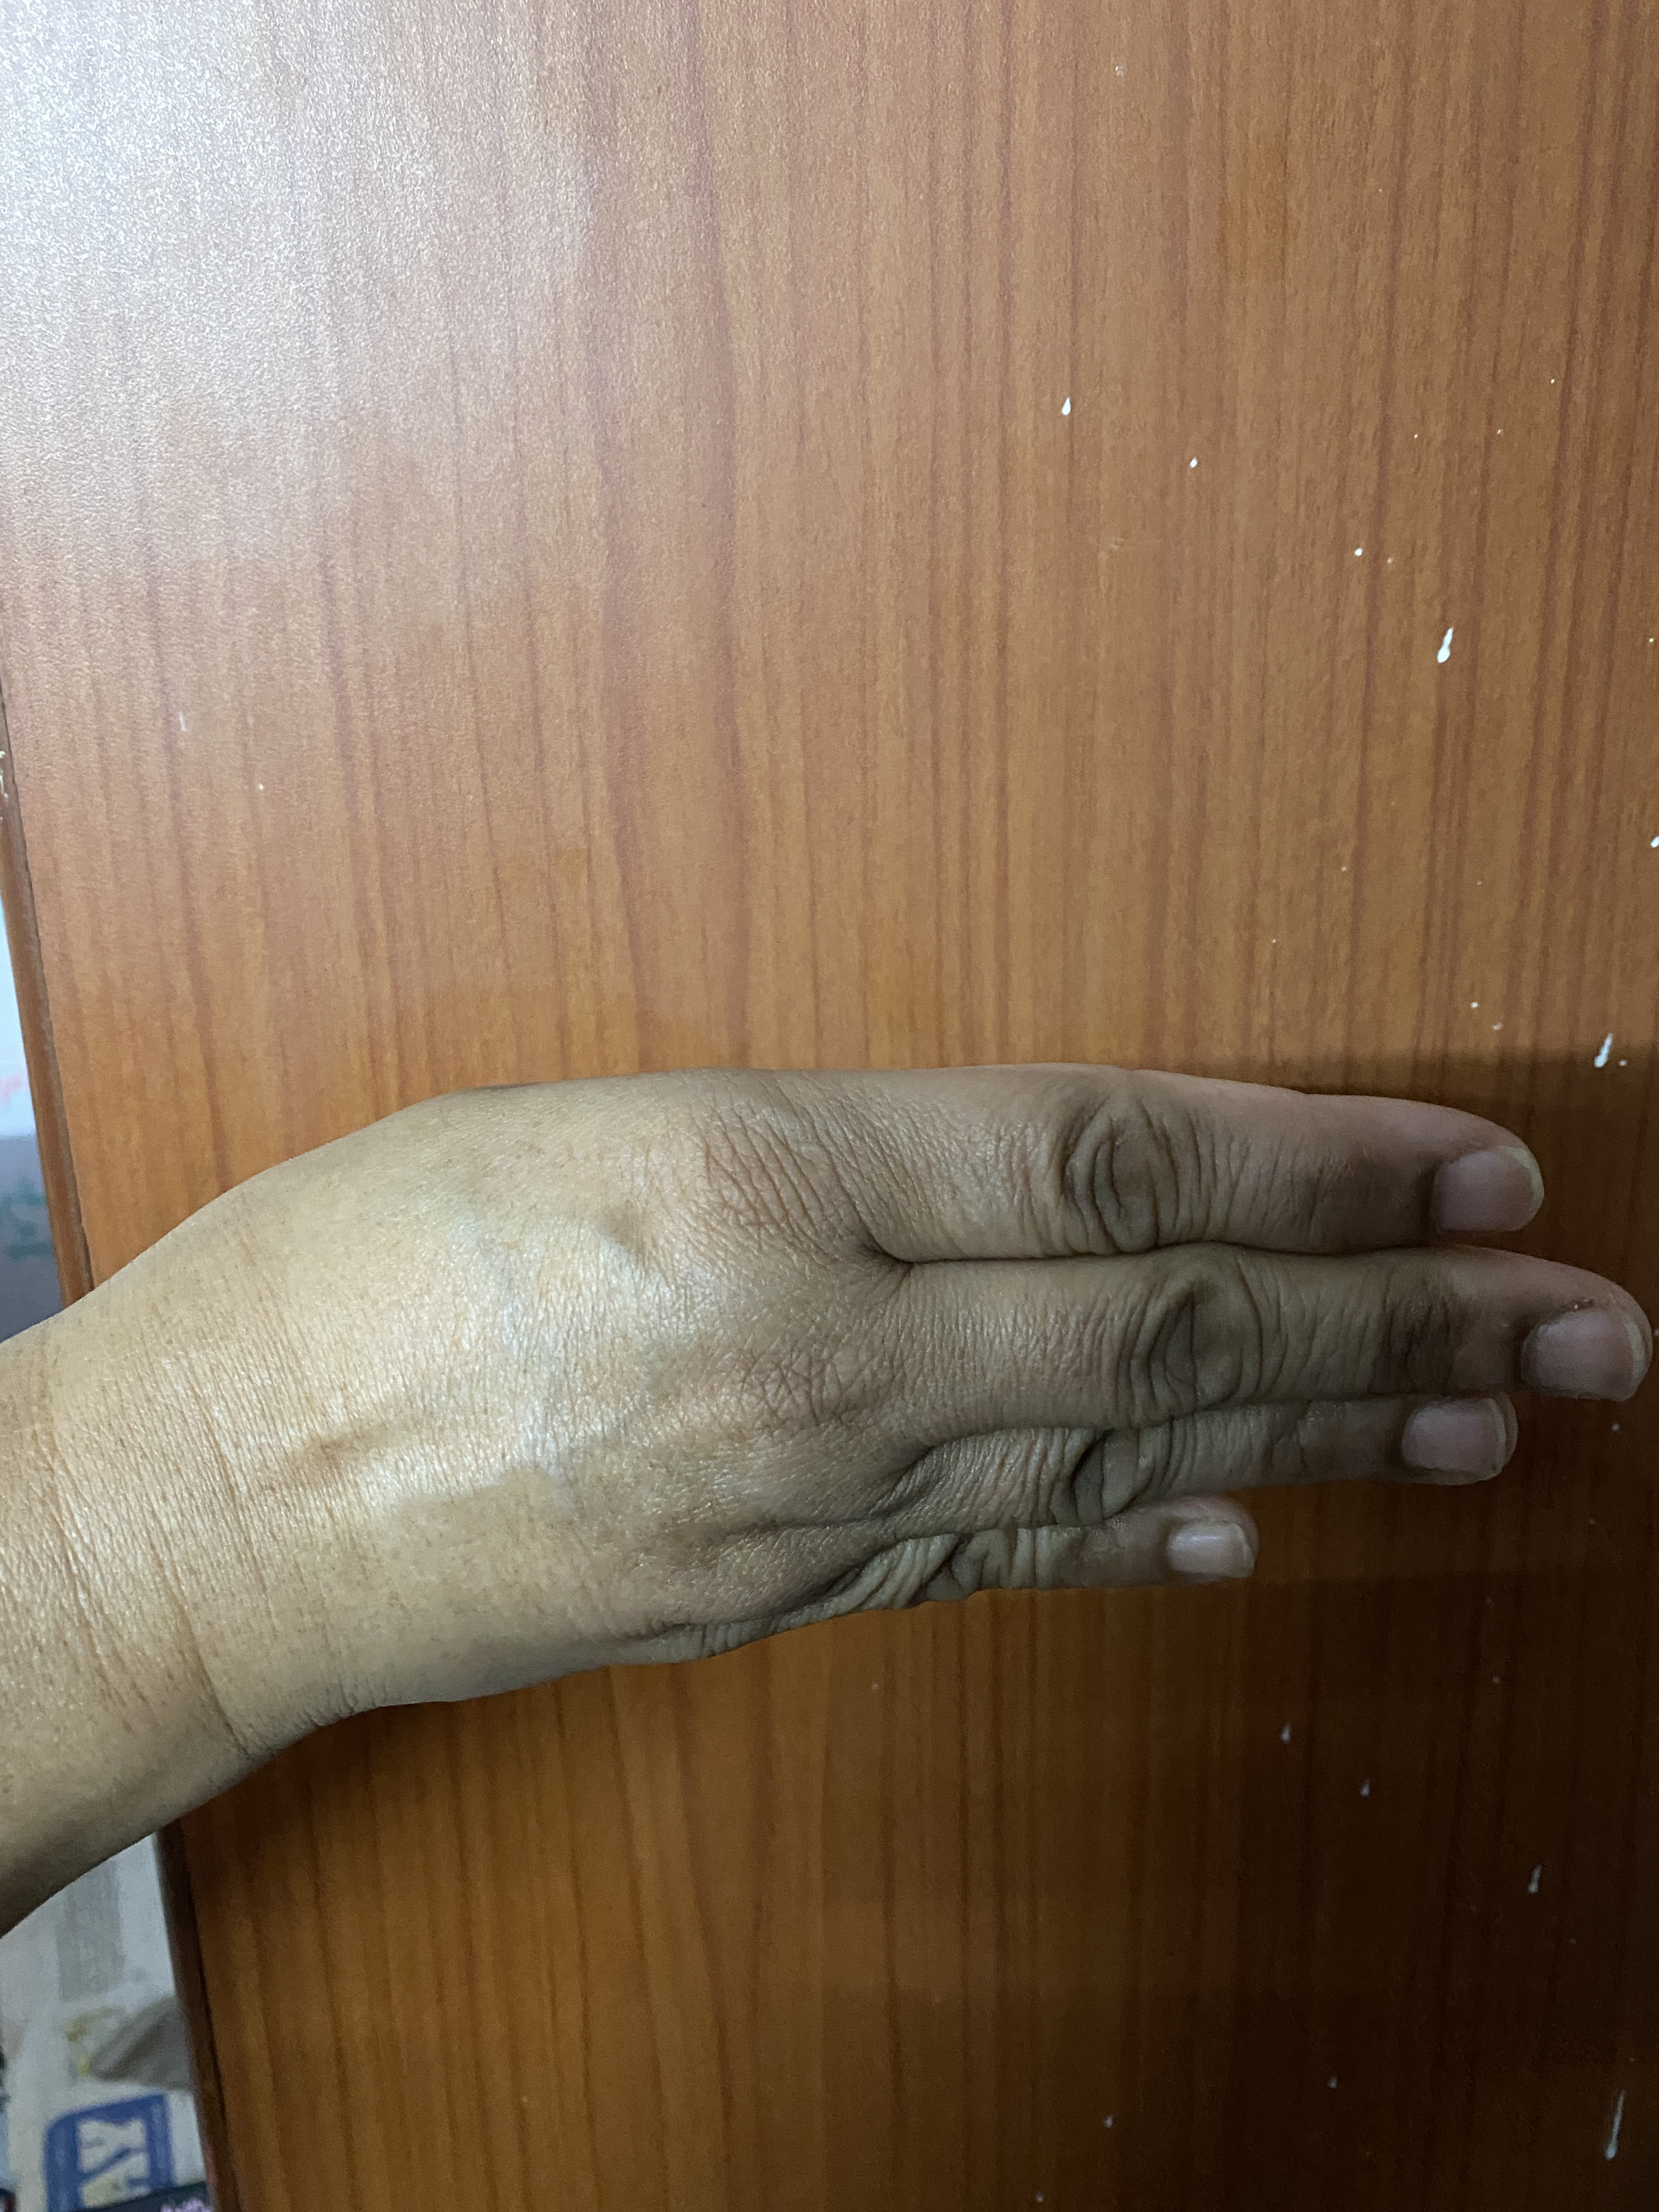left: (5, 991, 1659, 1993)
